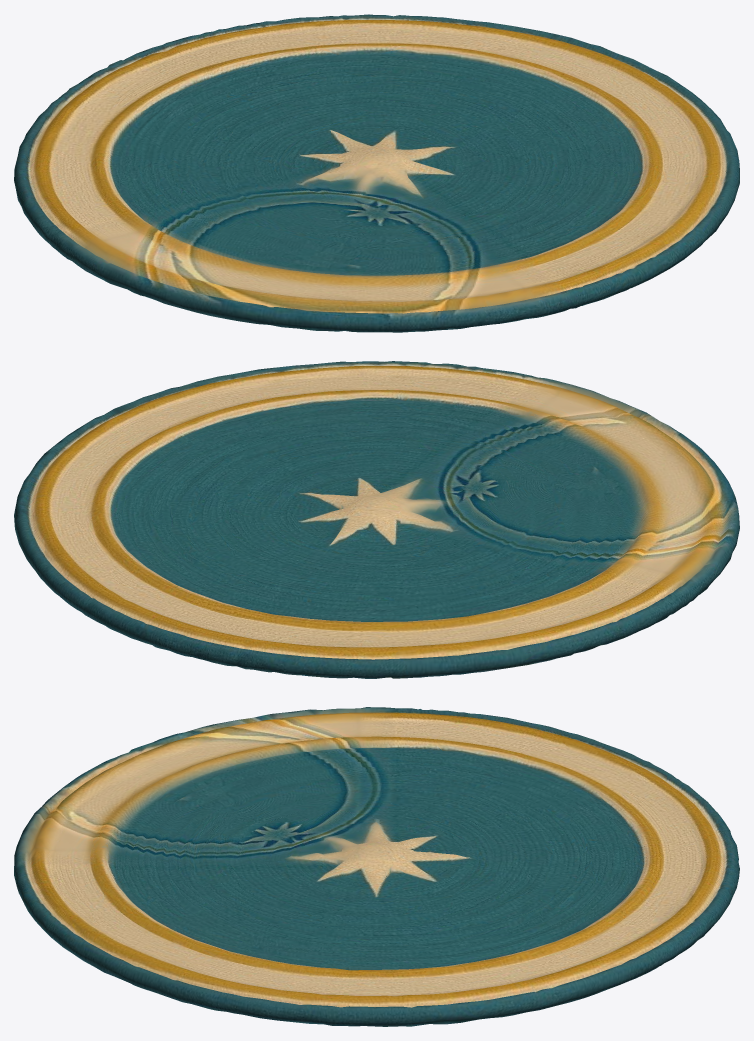
The model's file is rug.glb.
3 renders of one model, top to bottom at view 1: azimuth 30°, elevation 25°; view 2: azimuth 150°, elevation 25°; view 3: azimuth 270°, elevation 25°, orthographic.
Visible parts, largest first — view 1: tripo_node_ef1496b3-c0c9-475d-a6f3-ae5d5db22ff2; view 2: tripo_node_ef1496b3-c0c9-475d-a6f3-ae5d5db22ff2; view 3: tripo_node_ef1496b3-c0c9-475d-a6f3-ae5d5db22ff2.
Part boxes in pixels (box(x1,y1,x2,y2)): tripo_node_ef1496b3-c0c9-475d-a6f3-ae5d5db22ff2: box(14, 14, 739, 332); tripo_node_ef1496b3-c0c9-475d-a6f3-ae5d5db22ff2: box(14, 361, 739, 678); tripo_node_ef1496b3-c0c9-475d-a6f3-ae5d5db22ff2: box(14, 707, 739, 1026).
Size of the model in its own units: 0.9803 by 0.0517 by 0.9785.
Materials: 1 (1 with a texture image).
